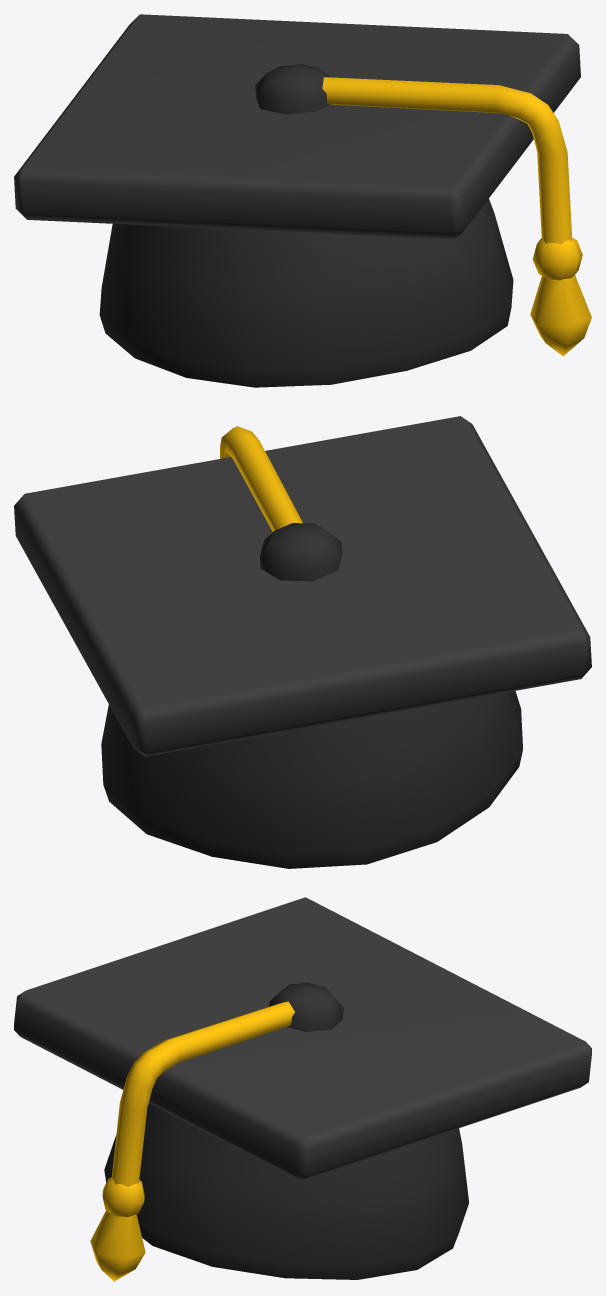
Rendered from Headgear_30.fbx.
3 renders of one model, top to bottom at view 1: azimuth 30°, elevation 25°; view 2: azimuth 150°, elevation 25°; view 3: azimuth 270°, elevation 25°, orthographic. The views are drawn at different scales.
Visible parts, largest first — view 1: Headgear_30; view 2: Headgear_30; view 3: Headgear_30.
Boxes of the visible parts, x1,y1,x2,y2 form: Headgear_30: (14, 14, 591, 387); Headgear_30: (14, 416, 591, 868); Headgear_30: (14, 897, 591, 1281).
Size of the model in its own units: 97.26 by 43.92 by 97.29.
